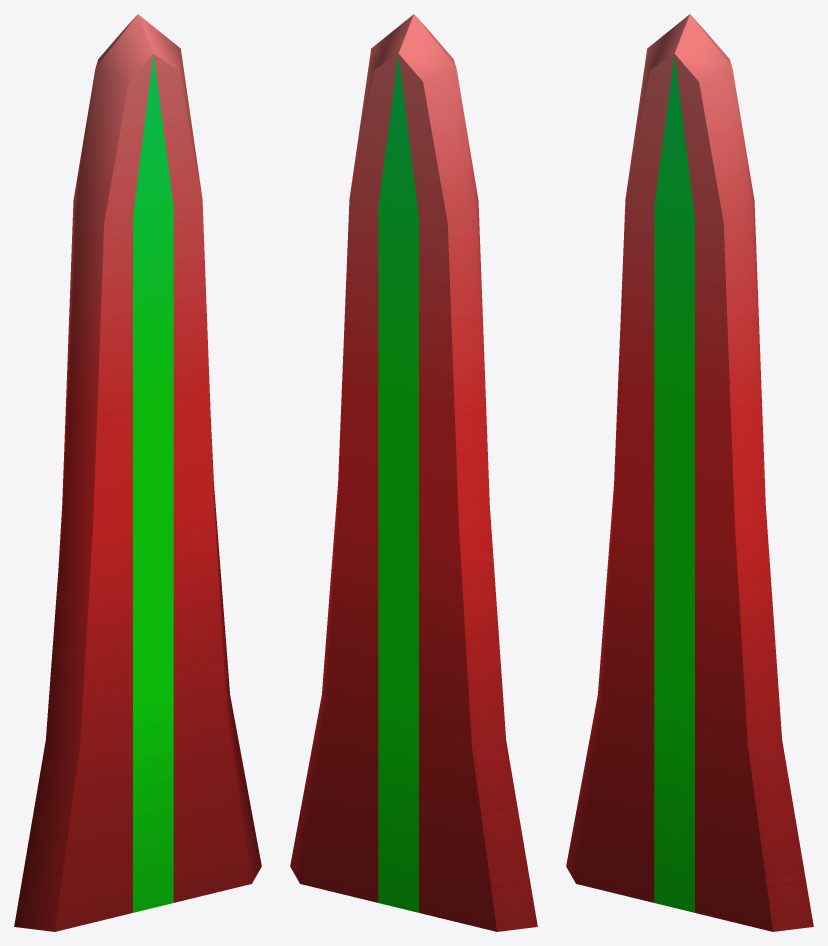
File: Blade_One.fbx
3 renders of one model, left to right at view 1: azimuth 30°, elevation 25°; view 2: azimuth 150°, elevation 25°; view 3: azimuth 330°, elevation 25°, orthographic.
Visible parts, largest first — view 1: Blade_One; view 2: Blade_One; view 3: Blade_One.
Boxes of the visible parts, x1,y1,x2,y2 form: Blade_One: (14, 14, 261, 931); Blade_One: (290, 14, 537, 931); Blade_One: (566, 14, 813, 931).
Size of the model in its own units: 2.96 by 10.07 by 0.6369.
